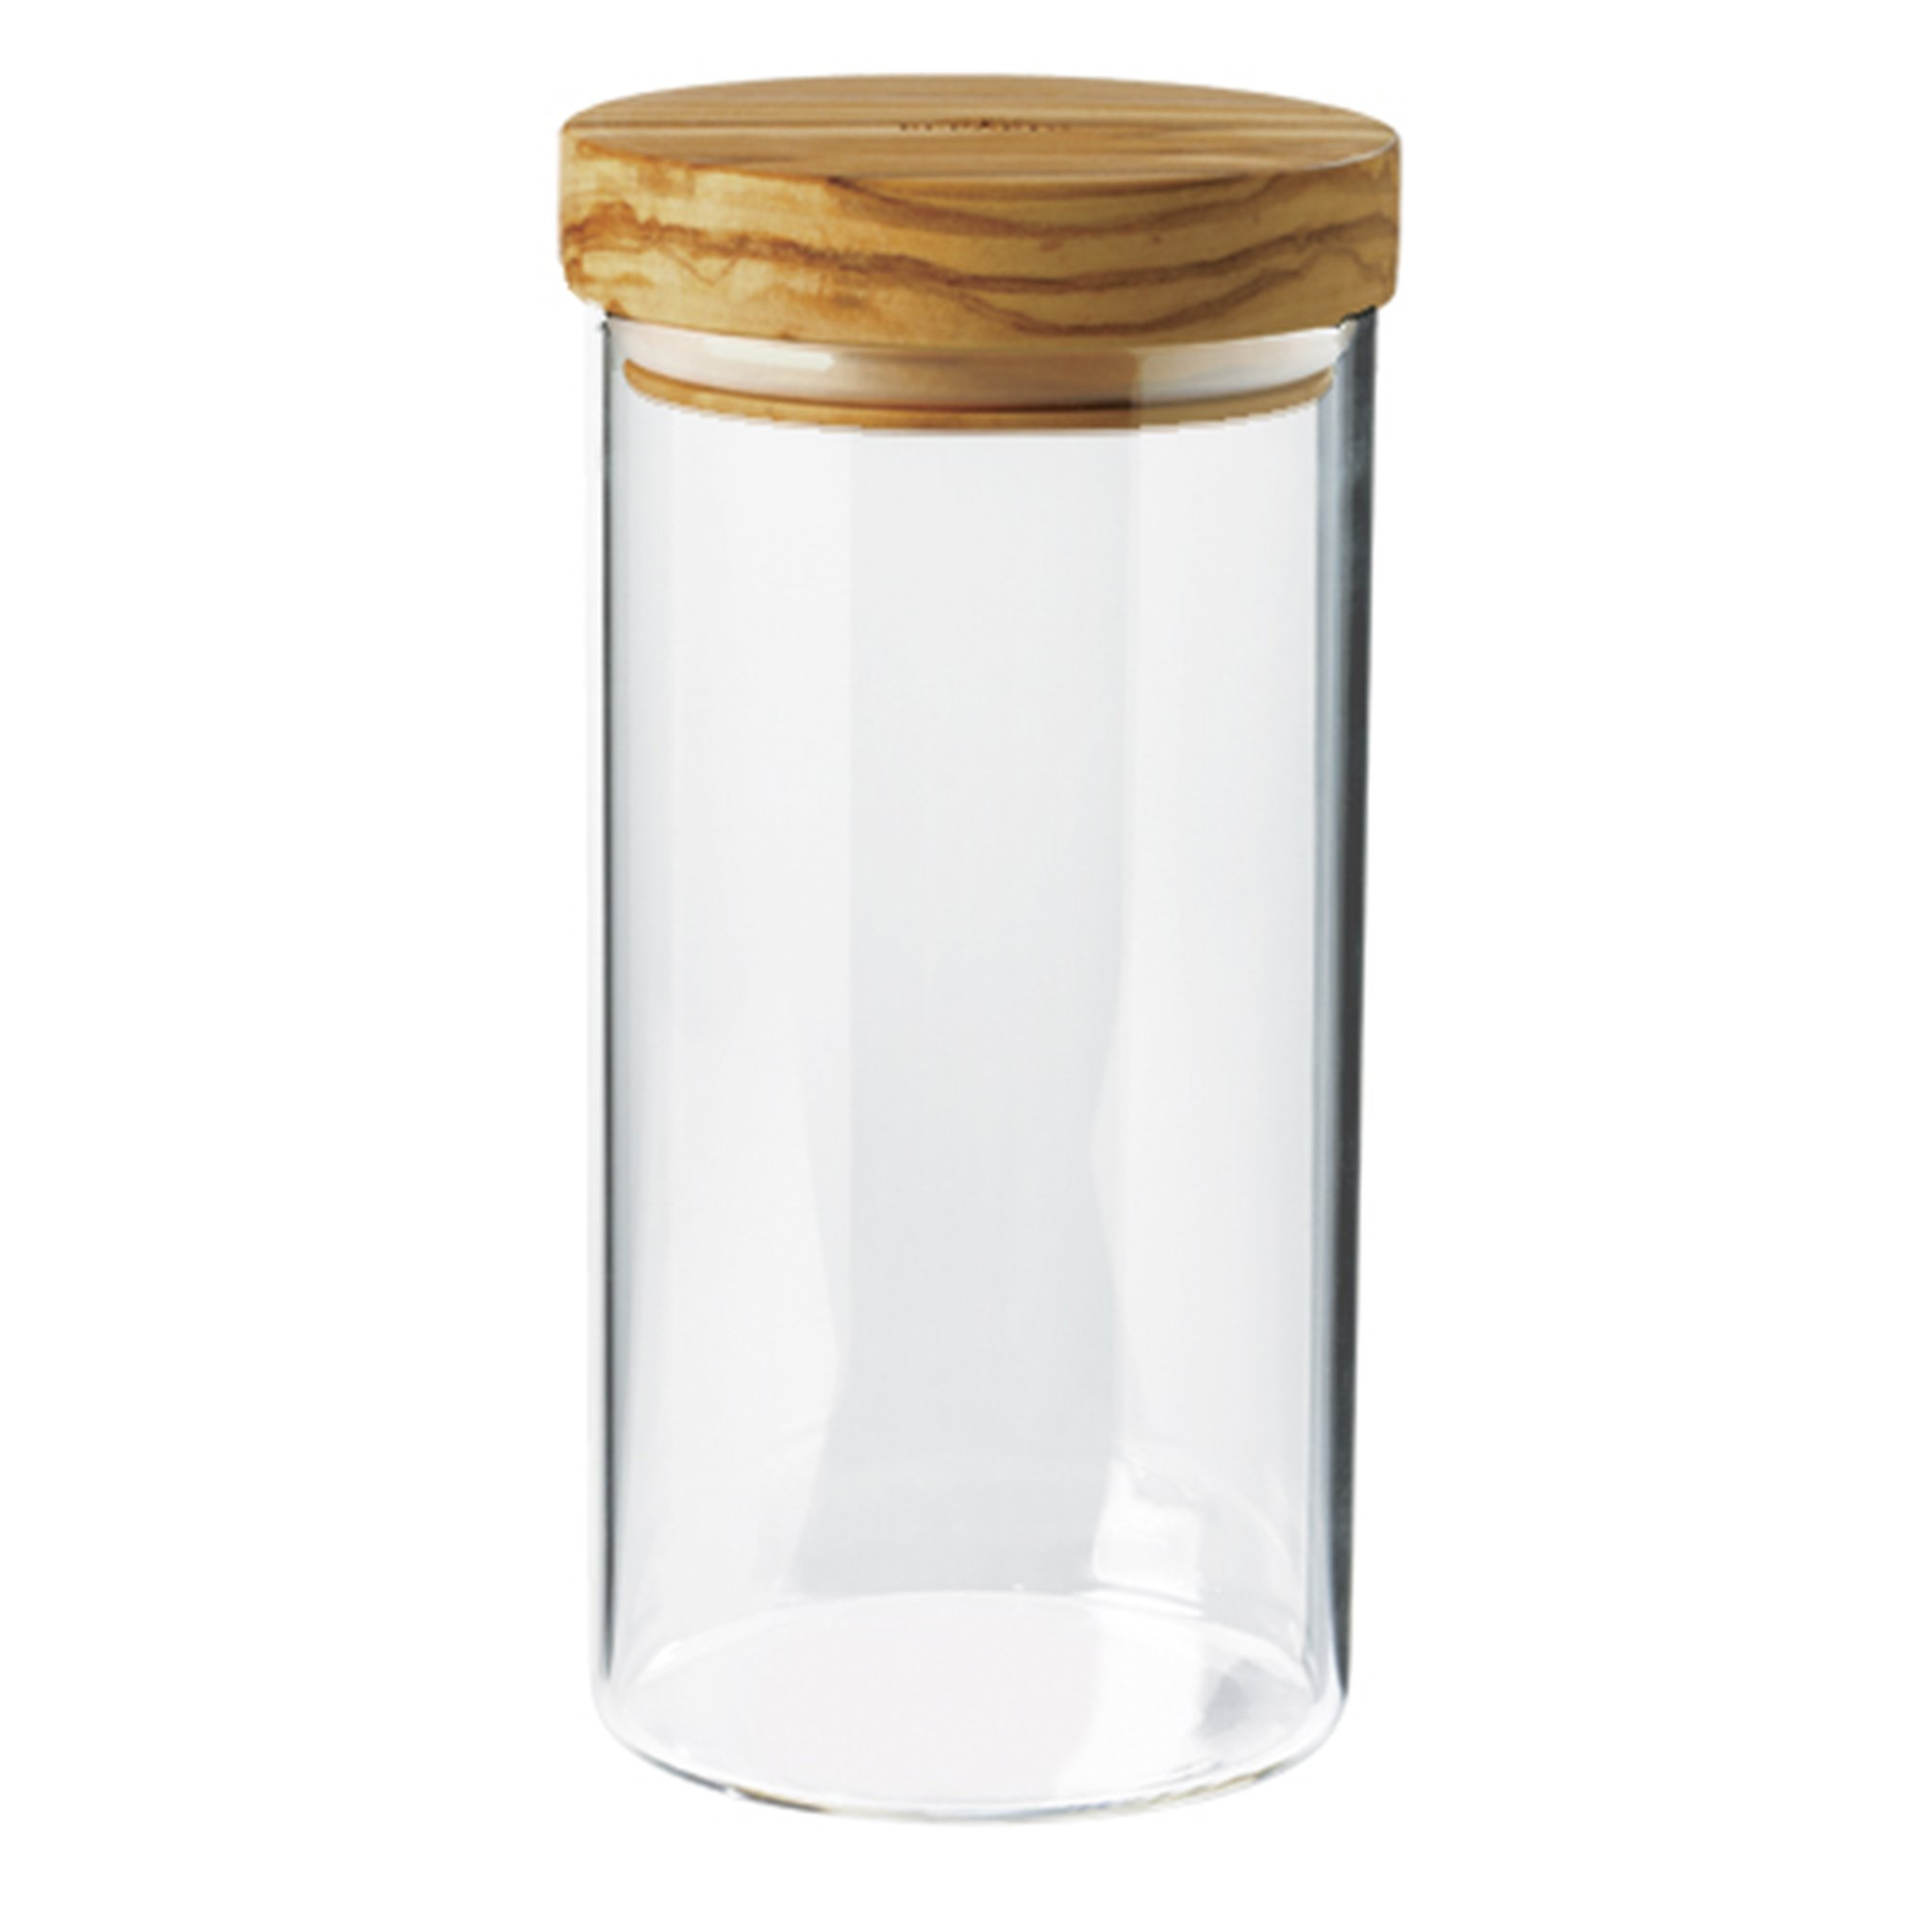Rec_Glass: (425, 94, 1461, 1813)
